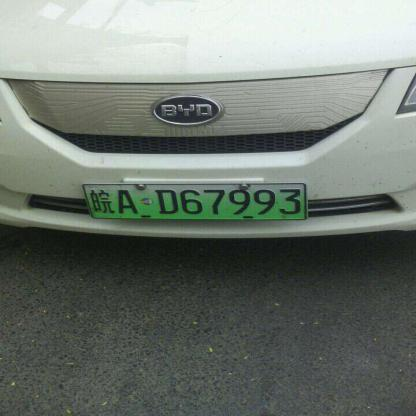lp: (84, 184, 305, 218)
